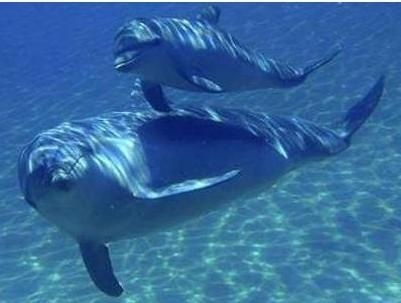fish: (17, 75, 388, 298), (111, 4, 343, 106)
